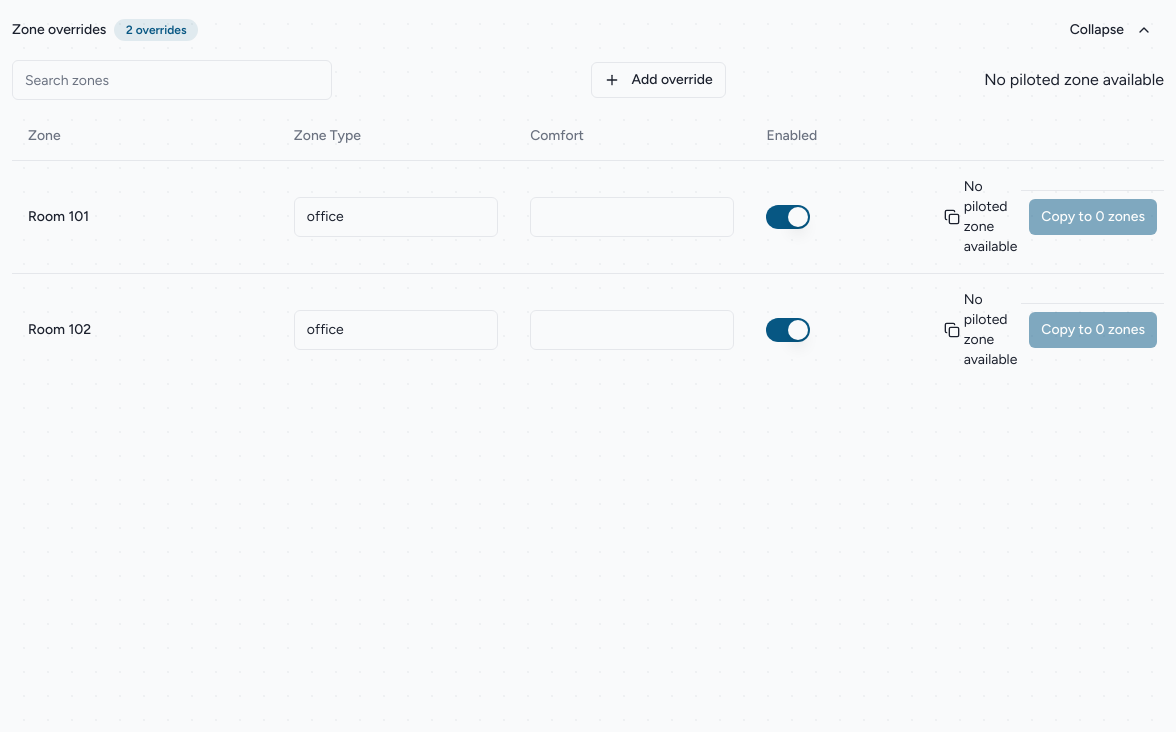
Test: ZoneOverridesField › filters visible rows by room name
Type "101" into the field with placeholder "Search zones". click: coordinates (172, 80)
box: [12,60,332,100]
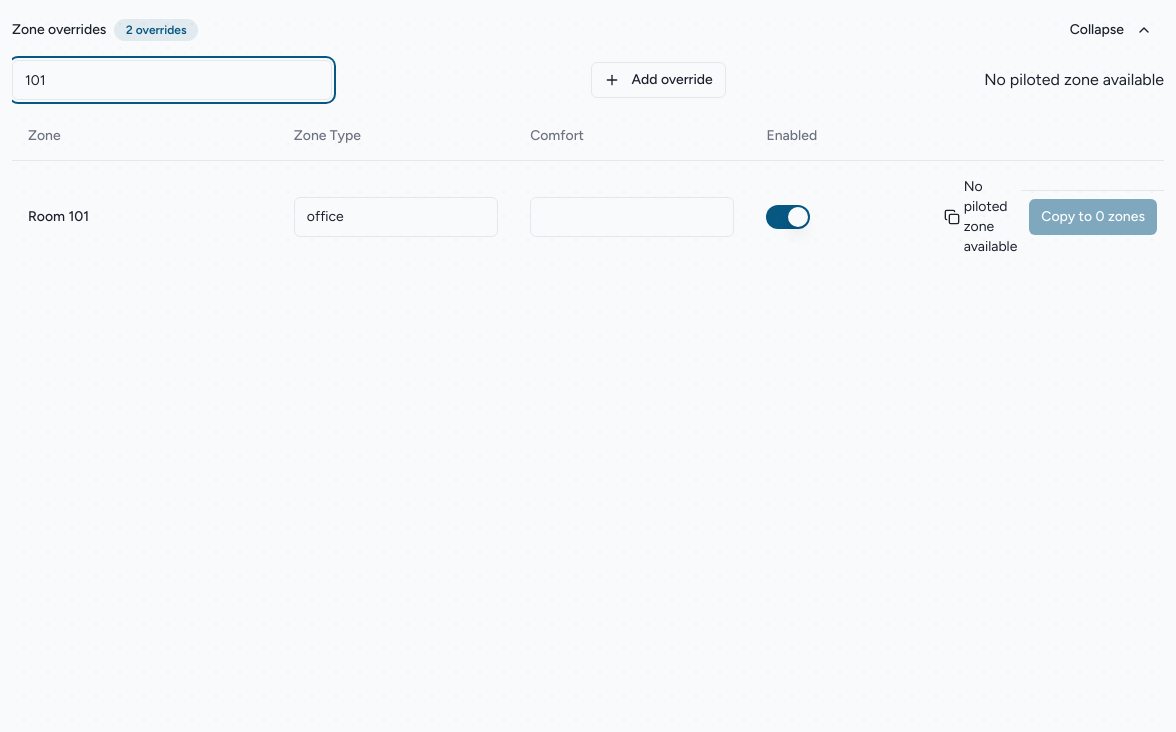
Expected: the text "Room 101" is shown, [12,160,278,272]
Expected: the text "Room 102" is gone
